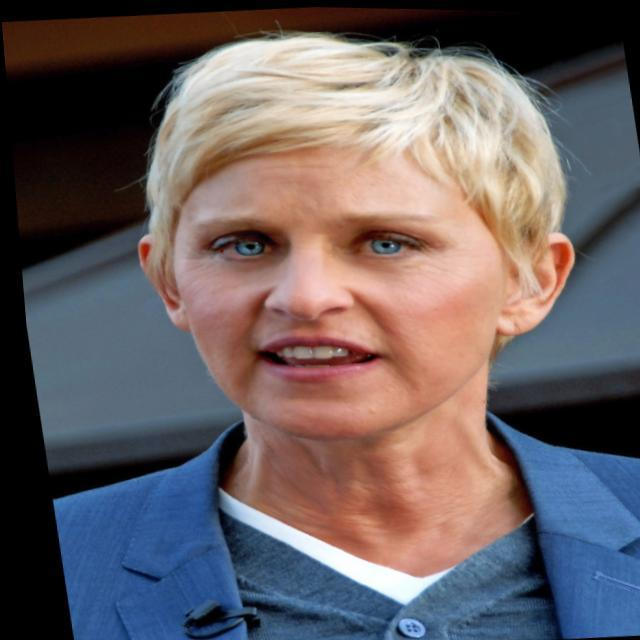Nonhelmet: (132, 27, 578, 442)
